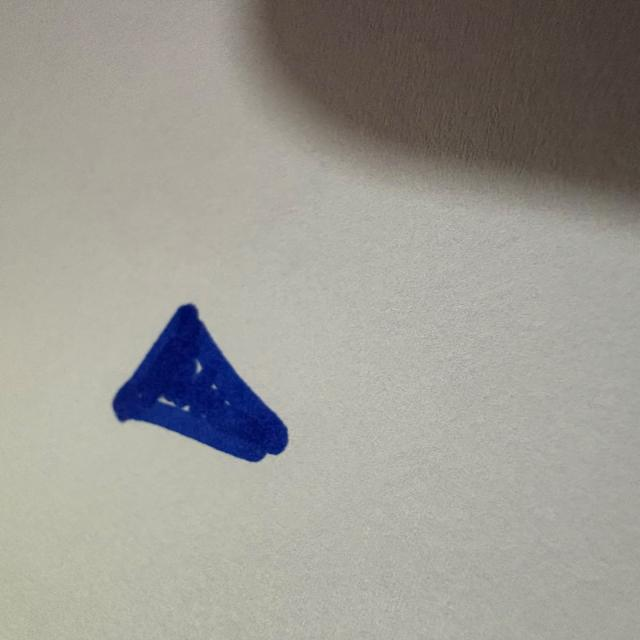Triangle: (114, 304, 287, 461)
